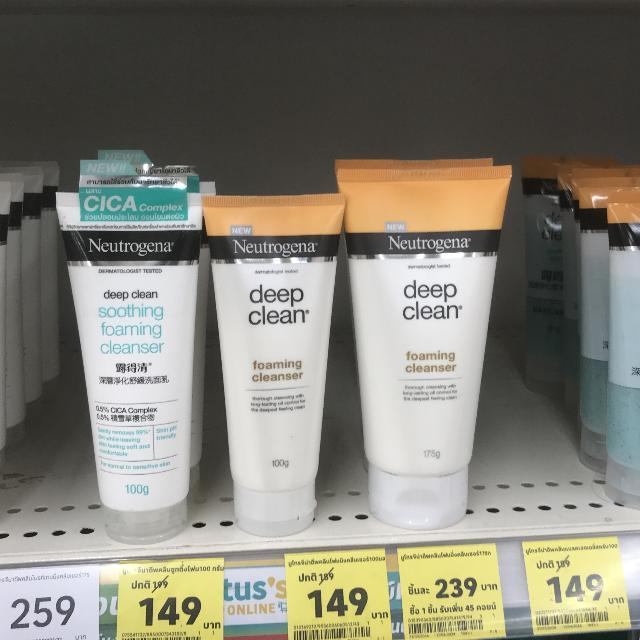Squeeze Tube: (333, 142, 518, 540), (44, 187, 208, 544), (195, 176, 341, 540)
